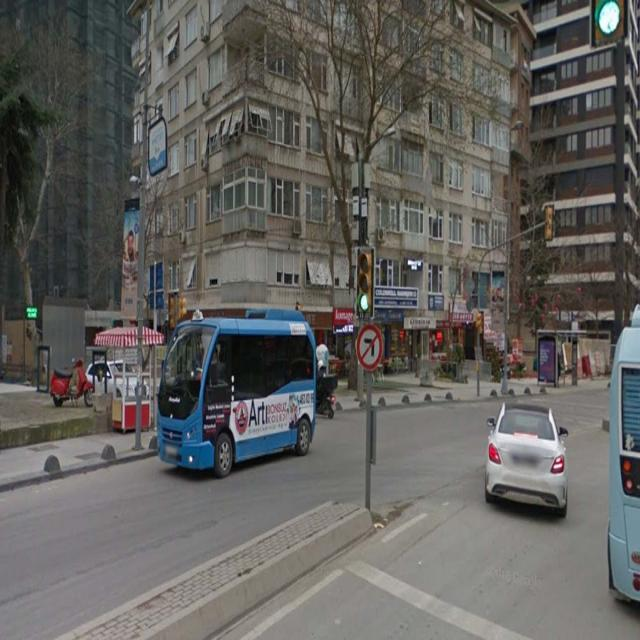soladonulmez: (356, 324, 383, 370)
yesil: (357, 247, 373, 318)
